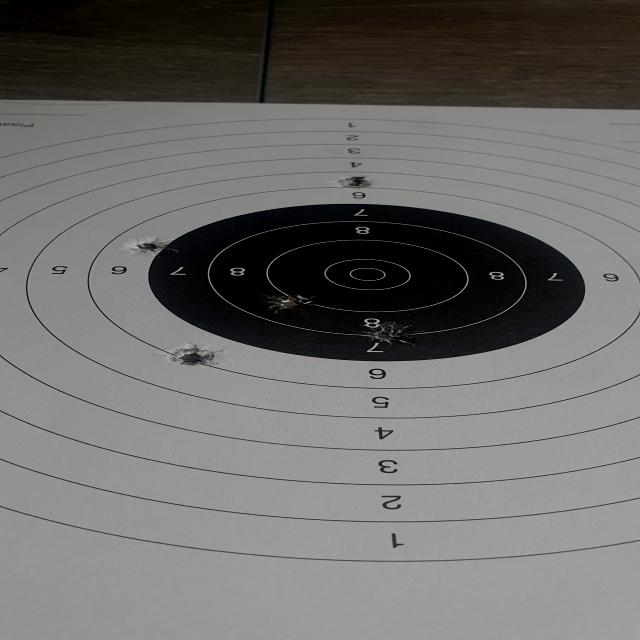6: (156, 343, 224, 368), (333, 176, 377, 189)
7: (121, 236, 180, 257)
8: (363, 321, 425, 346)
9: (260, 290, 318, 316)
Target: (0, 117, 640, 563)
black_contour: (149, 202, 587, 362)
